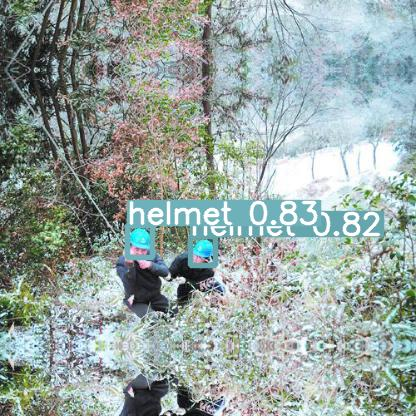helmet: (127, 225, 152, 257), (190, 236, 215, 265)
